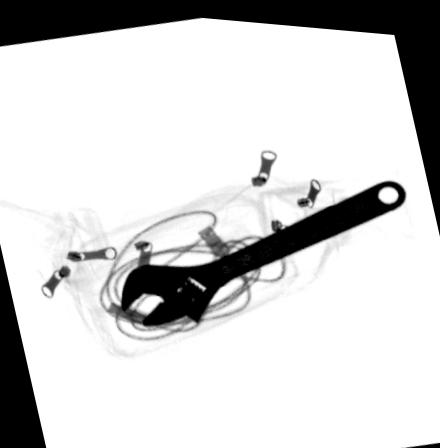Wrench: (119, 169, 406, 322)
